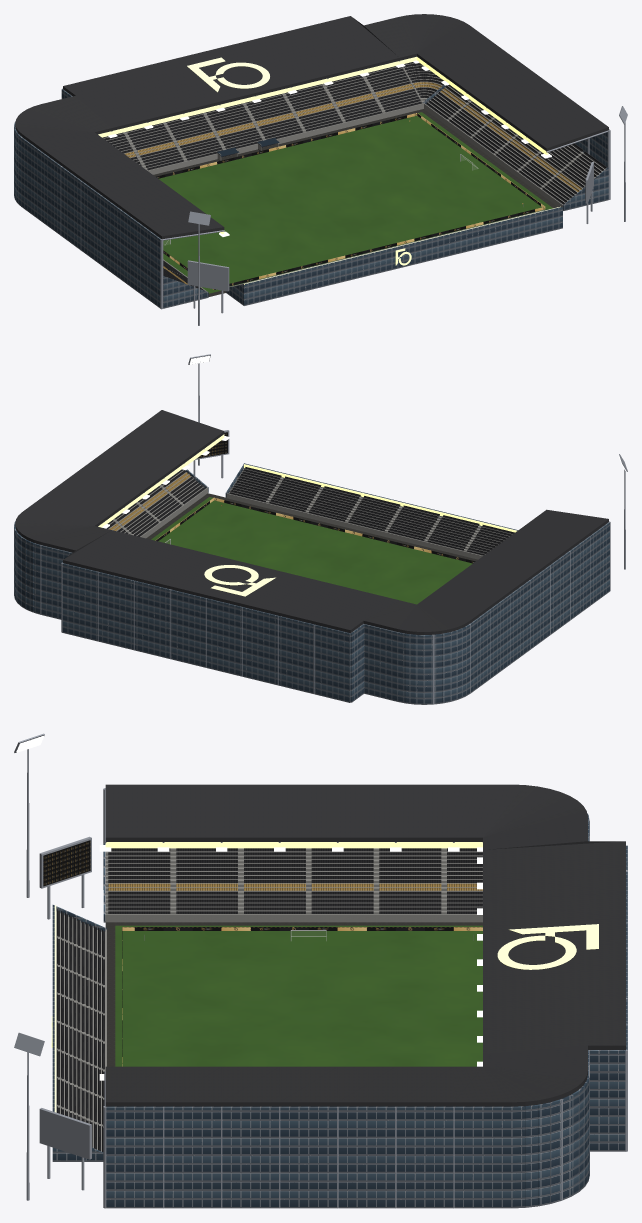
The model's file is terrain_L4.glb.
3 renders of one model, top to bottom at view 1: azimuth 30°, elevation 25°; view 2: azimuth 150°, elevation 25°; view 3: azimuth 270°, elevation 25°, orthographic. The views are drawn at different scales.
Visible parts, largest first — view 1: membrane_L4, pitch_L4_L4, facade_L4, seats_L4, concrete_L4, steel_L4, emissive_led_L4, seats_accent_L4, emissive_boards_L4, concrete_dark_L4, emissive_floodlights_L4; view 2: facade_L4, membrane_L4, pitch_L4_L4, seats_L4, concrete_L4, steel_L4, emissive_led_L4, concrete_dark_L4, emissive_boards_L4, seats_accent_L4; view 3: membrane_L4, facade_L4, pitch_L4_L4, seats_L4, concrete_L4, steel_L4, emissive_led_L4, concrete_dark_L4, seats_accent_L4, emissive_boards_L4, emissive_screen_L4, emissive_floodlights_L4.
Boxes of the visible parts, left/top/right/bottom form: membrane_L4: left=15, top=14, right=608, bottom=239; pitch_L4_L4: left=158, top=112, right=552, bottom=293; facade_L4: left=14, top=85, right=609, bottom=308; seats_L4: left=102, top=62, right=606, bottom=290; concrete_L4: left=103, top=63, right=605, bottom=291; steel_L4: left=21, top=61, right=627, bottom=325; emissive_led_L4: left=98, top=56, right=560, bottom=284; seats_accent_L4: left=125, top=82, right=581, bottom=285; emissive_boards_L4: left=156, top=113, right=545, bottom=289; concrete_dark_L4: left=153, top=109, right=557, bottom=296; emissive_floodlights_L4: left=108, top=60, right=622, bottom=236; facade_L4: left=14, top=463, right=609, bottom=704; membrane_L4: left=15, top=410, right=608, bottom=634; pitch_L4_L4: left=151, top=497, right=472, bottom=604; seats_L4: left=106, top=467, right=514, bottom=555; concrete_L4: left=108, top=468, right=512, bottom=559; steel_L4: left=14, top=354, right=627, bottom=704; emissive_led_L4: left=98, top=434, right=517, bottom=596; concrete_dark_L4: left=146, top=493, right=477, bottom=561; emissive_boards_L4: left=155, top=497, right=475, bottom=563; seats_accent_L4: left=109, top=472, right=190, bottom=530; membrane_L4: left=105, top=784, right=625, bottom=1106; facade_L4: left=52, top=813, right=627, bottom=1208; pitch_L4_L4: left=115, top=925, right=482, bottom=1066; seats_L4: left=57, top=848, right=482, bottom=1152; concrete_L4: left=56, top=848, right=482, bottom=1151; steel_L4: left=14, top=733, right=627, bottom=1208; emissive_led_L4: left=51, top=842, right=598, bottom=1112; concrete_dark_L4: left=105, top=922, right=482, bottom=1066; seats_accent_L4: left=108, top=883, right=482, bottom=890; emissive_boards_L4: left=122, top=927, right=482, bottom=1066; emissive_screen_L4: left=43, top=840, right=90, bottom=886; emissive_floodlights_L4: left=16, top=735, right=482, bottom=1080.
Bounding box in the file's own units: 156 × 36.81 × 127.
17 materials, 10 textured.
